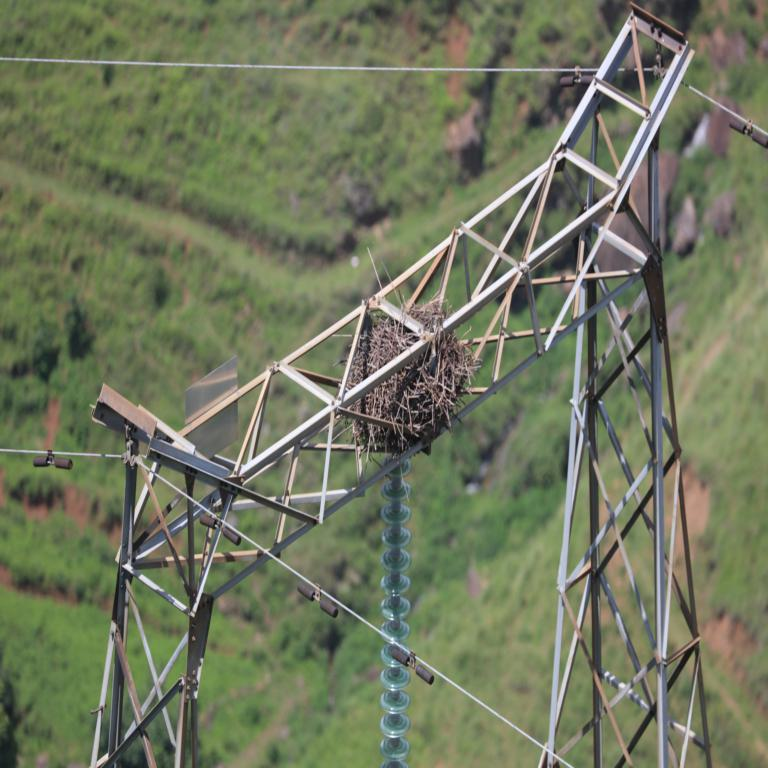nest: (338, 305, 464, 445)
